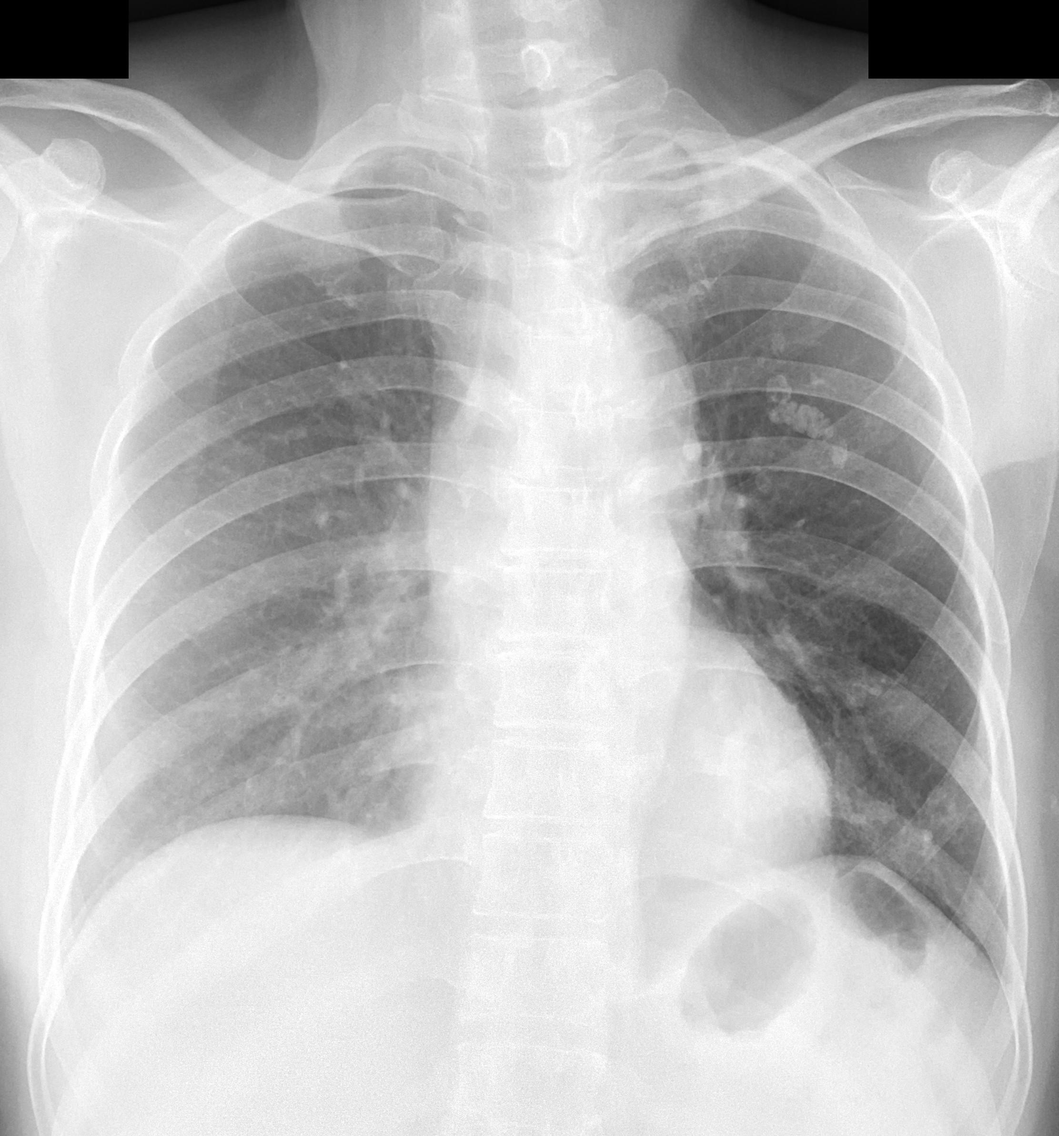Pleural thickening: (335, 144, 406, 176)
